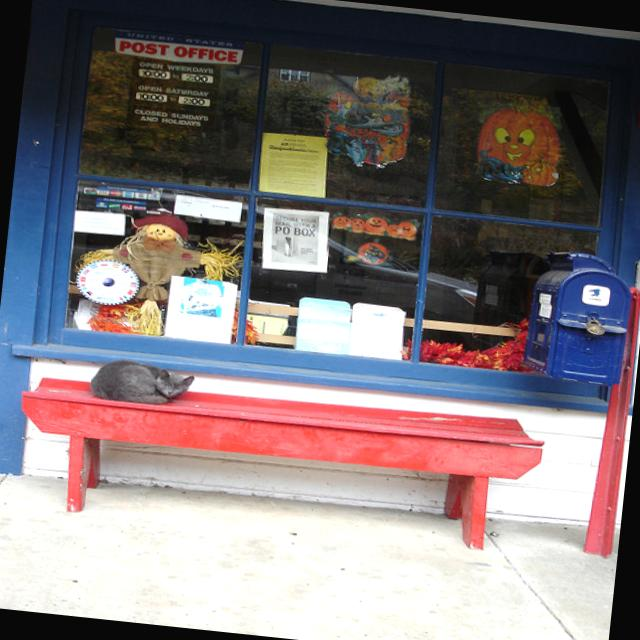Vehicle: (246, 203, 489, 329)
